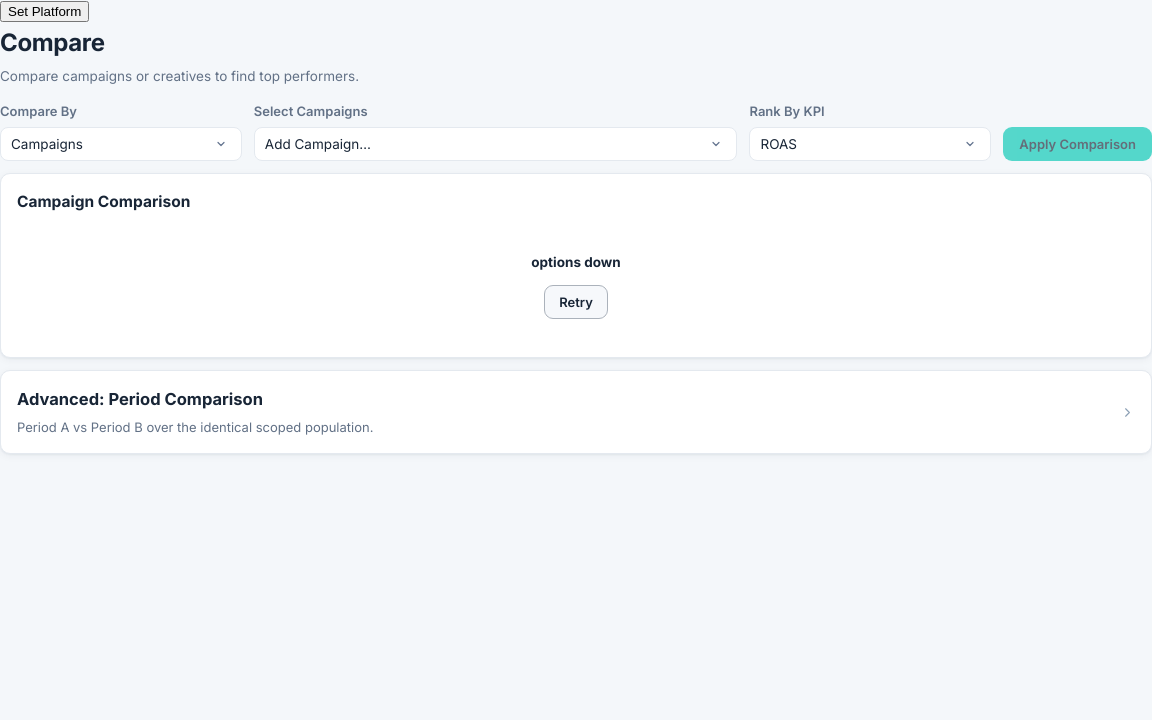
Test: ComparePage › recovers campaign options after a failed catalogue is retried
This screenshot has width=1152, height=720.
Expected: the text "options down" is shown, left=531, top=252, right=621, bottom=273
Click the button "Retry" at point(576, 302), box left=544, top=285, right=608, bottom=319
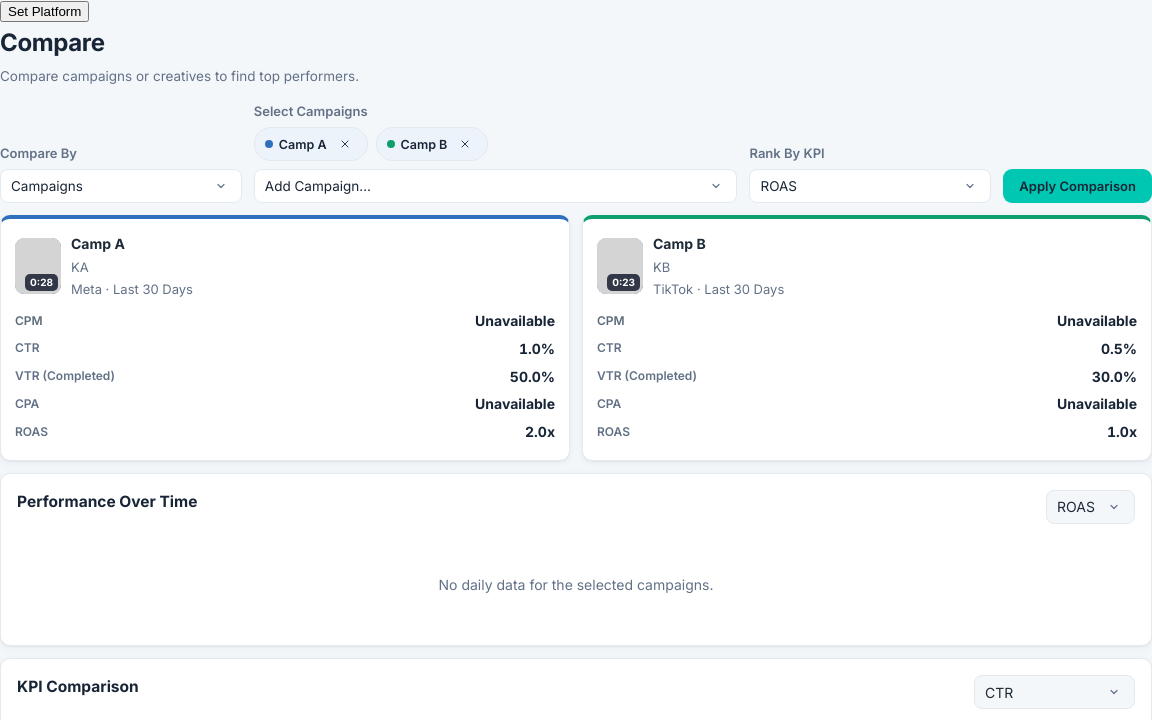
Result: the heading "Performance Over Time" is shown at left=17, top=492, right=198, bottom=511
Result: the text "options down" is gone
